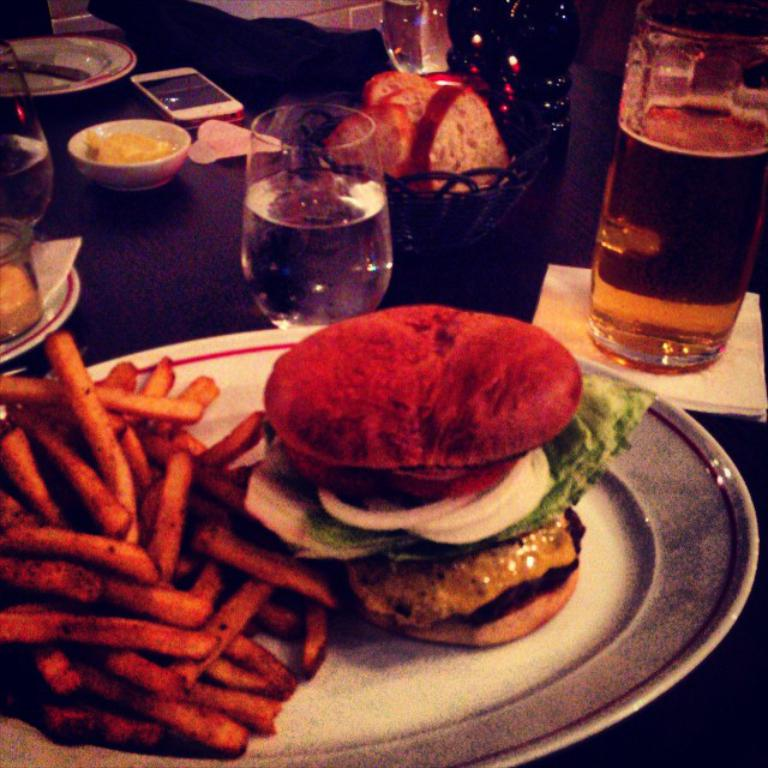French fries: (10, 324, 344, 747)
